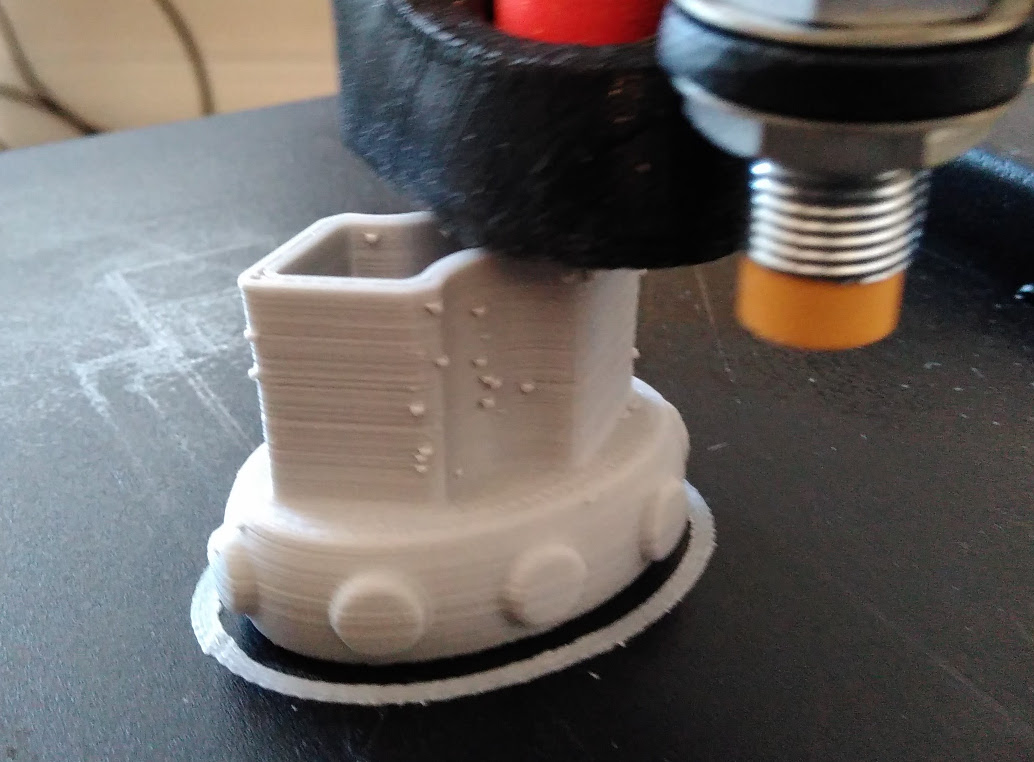blob: (464, 356, 564, 414), (387, 390, 447, 477), (232, 324, 282, 384), (462, 294, 511, 343), (349, 220, 393, 253), (619, 334, 646, 368), (418, 298, 450, 326), (624, 264, 653, 290)
